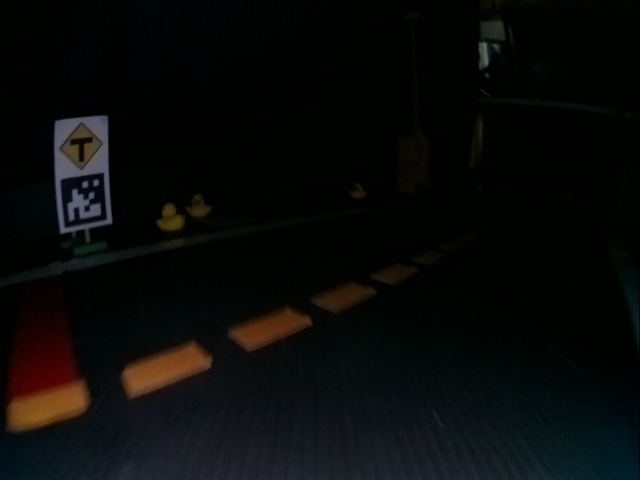Duckie: (156, 205, 183, 231), (187, 194, 210, 217), (349, 183, 366, 199)
Intersection sign: (56, 118, 107, 171)
QR code: (59, 174, 110, 230)
